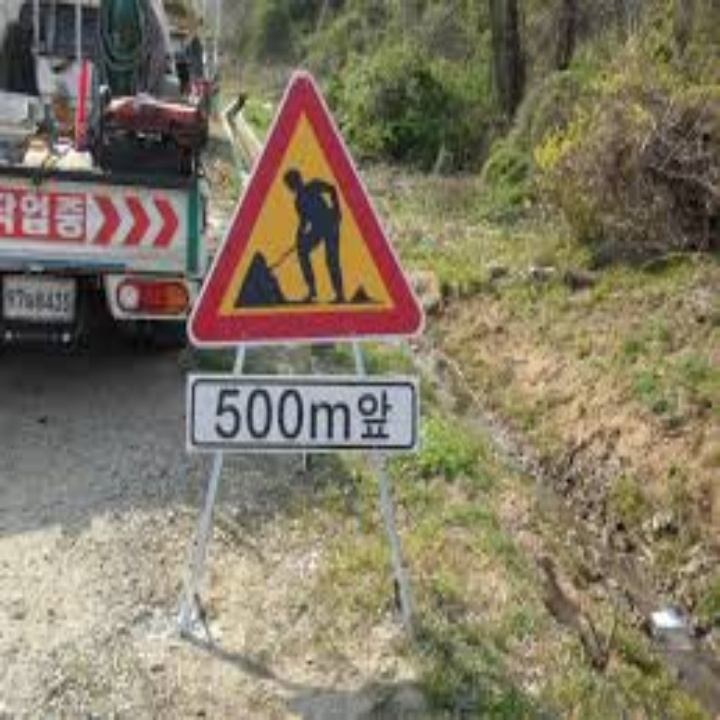const: (231, 155, 385, 309)
